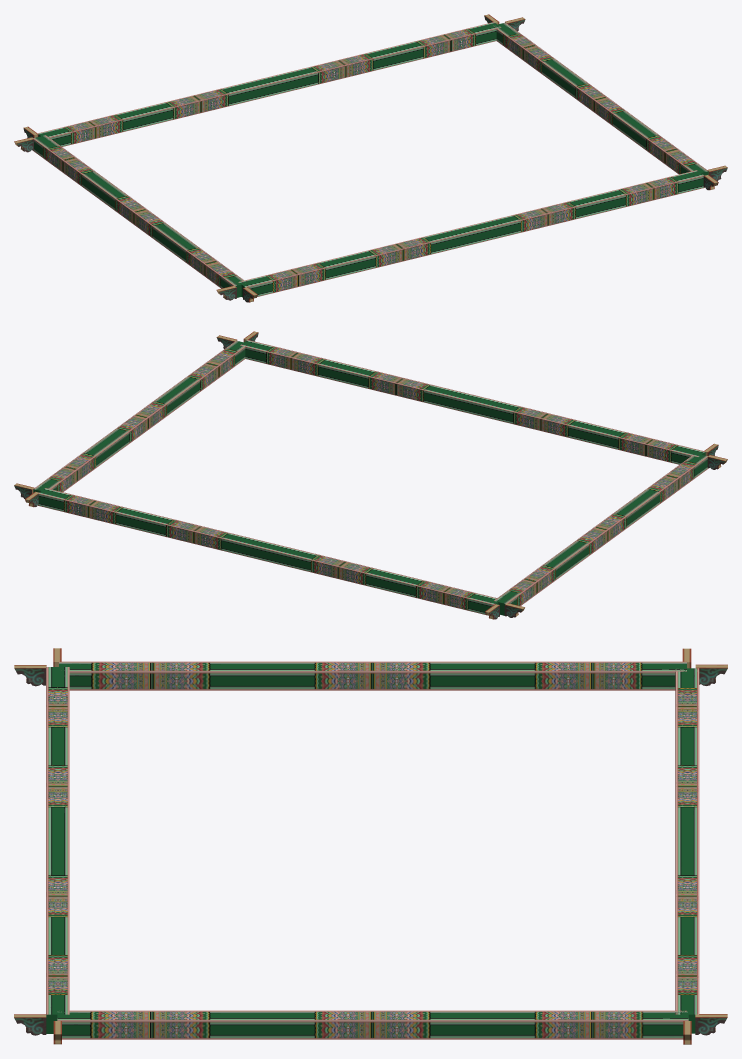
The model's file is SM_Geumsan_Mi_Bang_B.fbx.
The picture shows the model from 3 angles, top to bottom: view 1: azimuth 30°, elevation 25°; view 2: azimuth 150°, elevation 25°; view 3: azimuth 270°, elevation 25°; orthographic projection. The views are drawn at different scales.
Parts seen in each view (by area): view 1: SM_Geumsan_Mi_Bang_B; view 2: SM_Geumsan_Mi_Bang_B; view 3: SM_Geumsan_Mi_Bang_B.
Boxes of the visible parts, x1,y1,x2,y2 form: SM_Geumsan_Mi_Bang_B: (14,14,727,302); SM_Geumsan_Mi_Bang_B: (14,331,727,619); SM_Geumsan_Mi_Bang_B: (14,648,727,1044).
Bounding box in the file's own units: 1597 × 36.77 × 1248.
